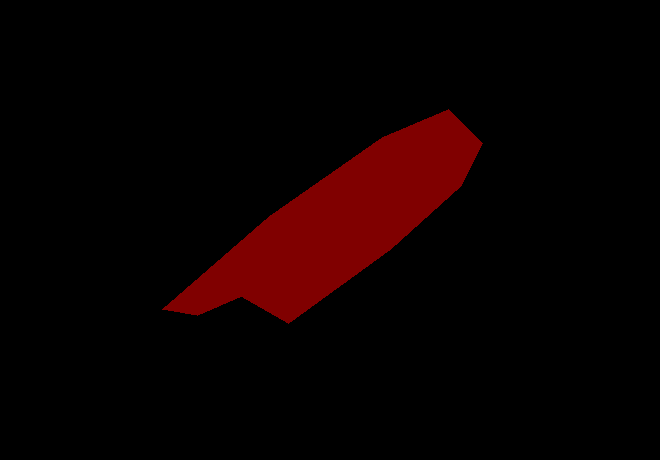fire: (162, 109, 482, 323)
